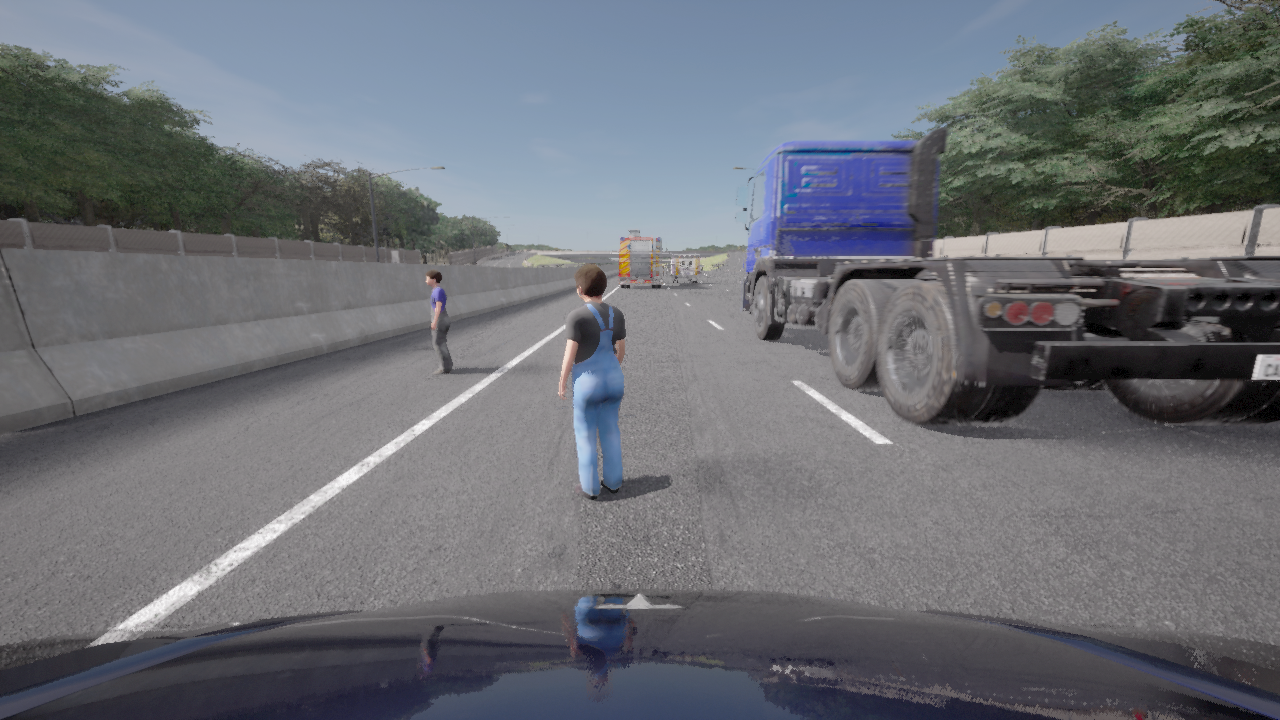cyclist: (0, 588, 1279, 719), (734, 128, 1279, 424), (618, 228, 663, 288), (668, 254, 700, 283)
pedestrian: (557, 264, 624, 499), (425, 269, 453, 373), (443, 261, 445, 264)
